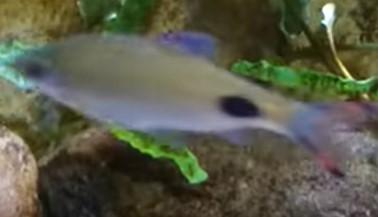Black Spotted Barb: (13, 0, 357, 196)
